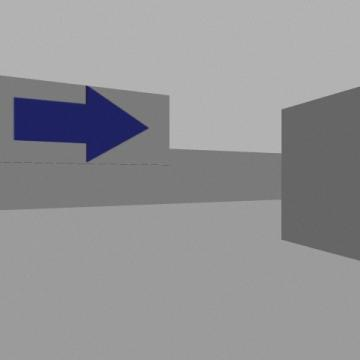blue_right: (14, 86, 148, 161)
